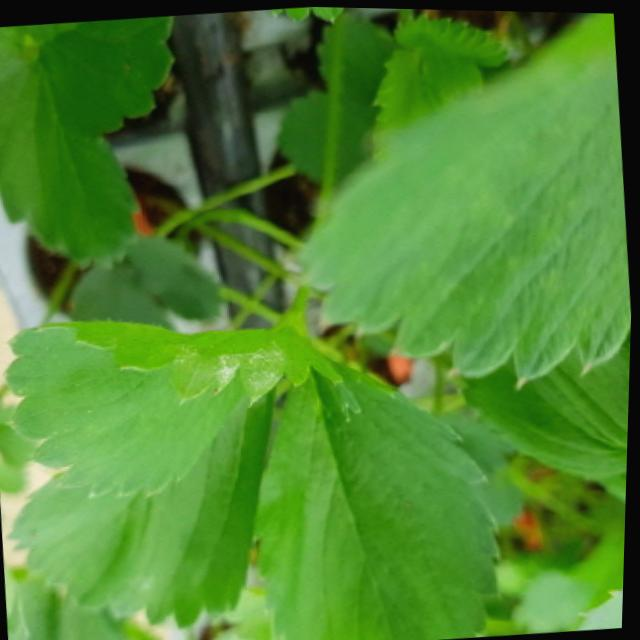Powdery Mildew Leaf: (4, 317, 349, 500)
